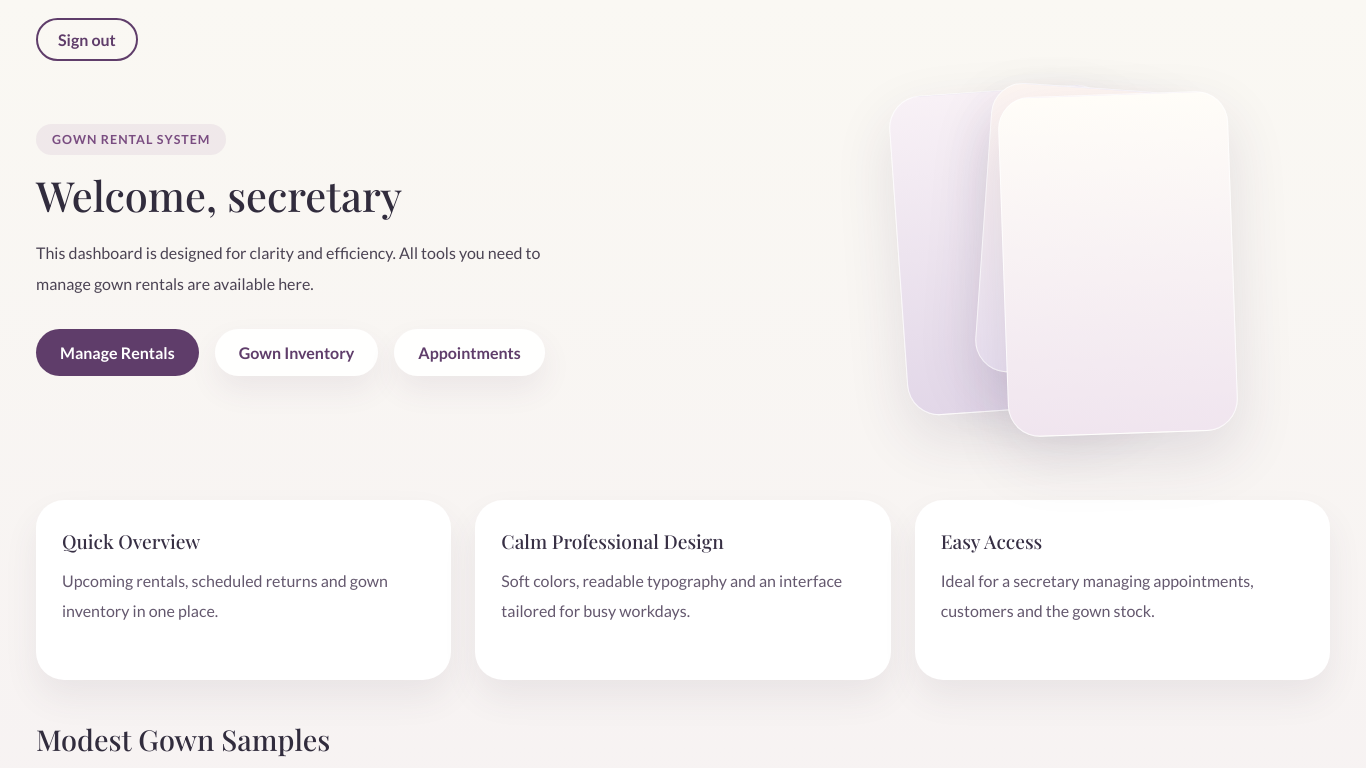
signing out › the dashboard has a sign-out button that ends the session and returns to the home page
This screenshot has width=1366, height=768.
Click the button "Sign out".
click(87, 40)  # box [36, 18, 138, 61]
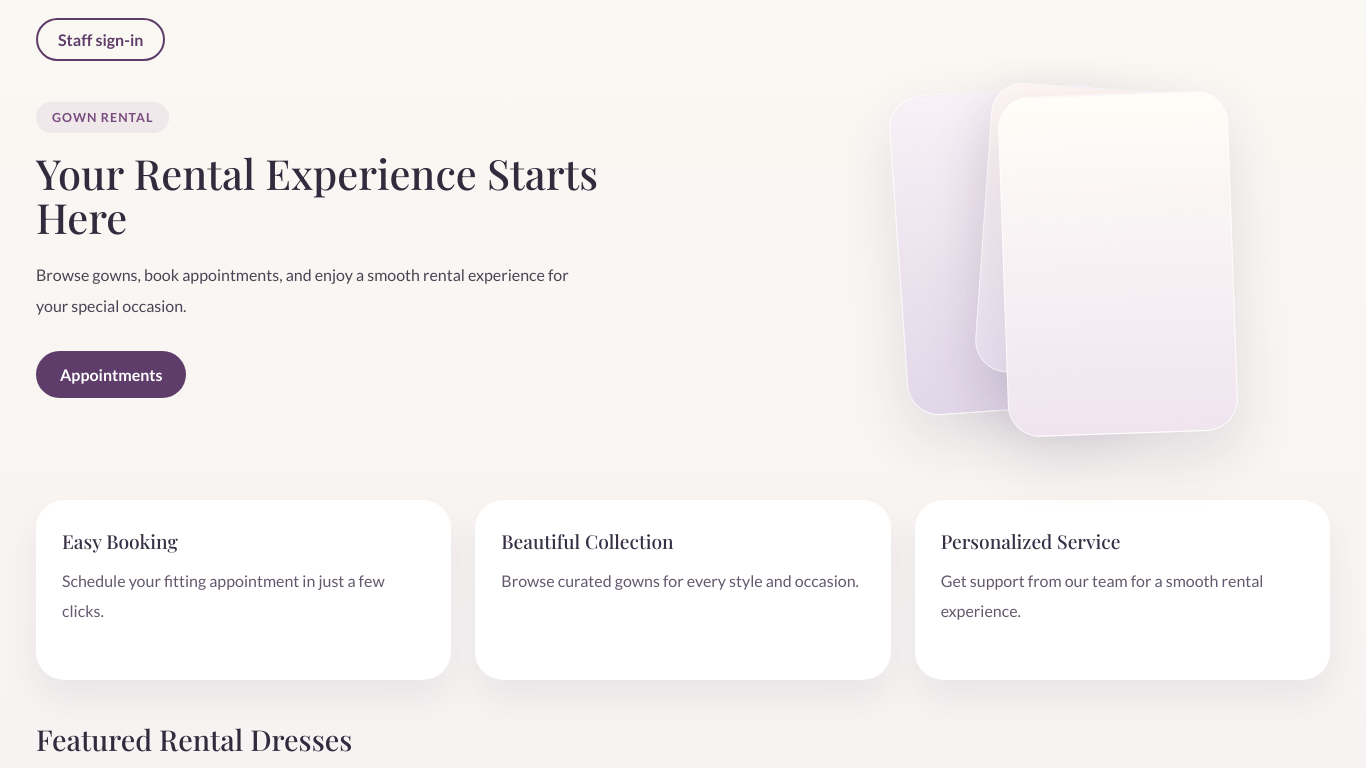
Check: the link "Staff sign-in" is shown, box [36, 18, 165, 61]
